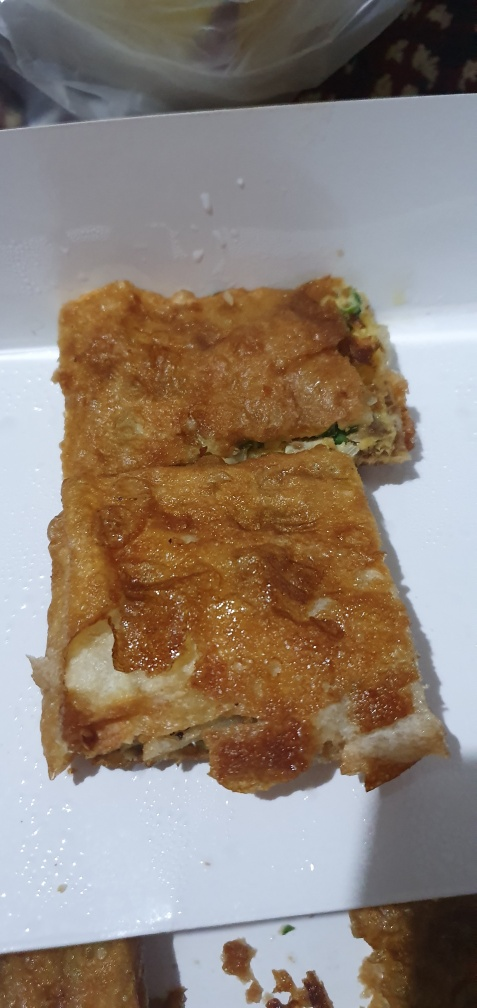martabak telor: (54, 466, 441, 782), (44, 271, 418, 456)
